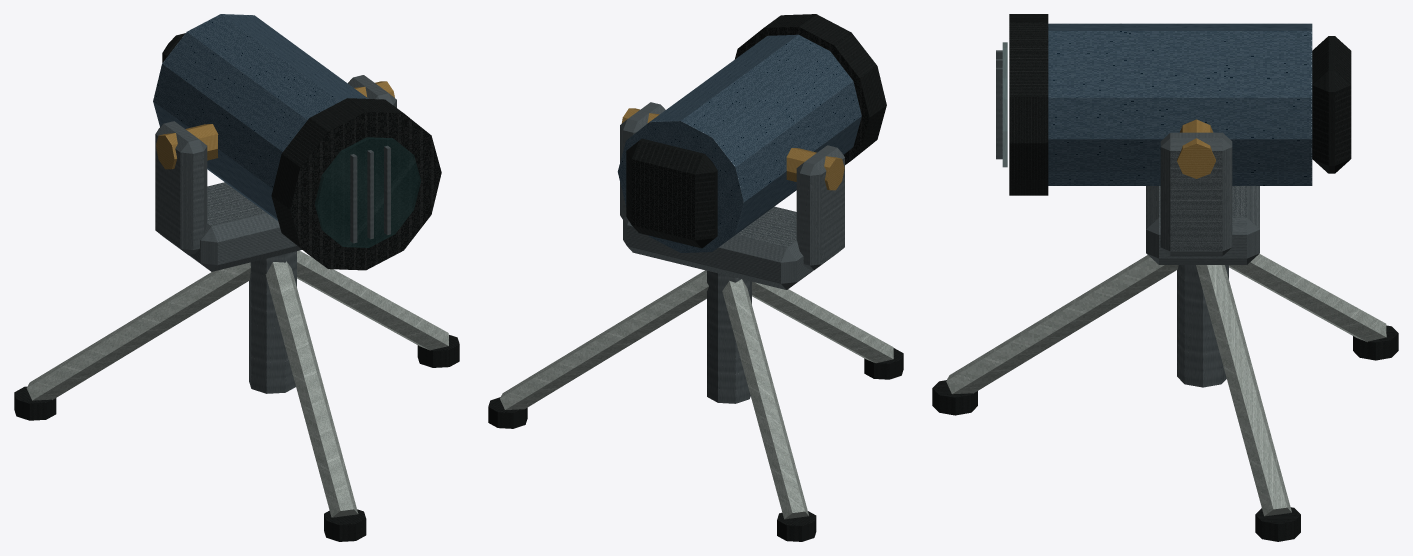
The model's file is blender_laser_grid_1_deployed.glb.
3 views of the same model, side by side, from view 1: azimuth 30°, elevation 25°; view 2: azimuth 150°, elevation 25°; view 3: azimuth 270°, elevation 25° (orthographic). The views are drawn at different scales.
Visible parts, largest first — view 1: blender_laser_grid_1_deployed; view 2: blender_laser_grid_1_deployed; view 3: blender_laser_grid_1_deployed.
Part boxes in pixels (left/top/right/bottom): blender_laser_grid_1_deployed: left=14, top=14, right=459, bottom=541; blender_laser_grid_1_deployed: left=488, top=14, right=903, bottom=541; blender_laser_grid_1_deployed: left=932, top=14, right=1398, bottom=541.
Size of the model in its own units: 0.1457 by 0.138 by 0.1431.
Materials: 6 (6 with a texture image).
